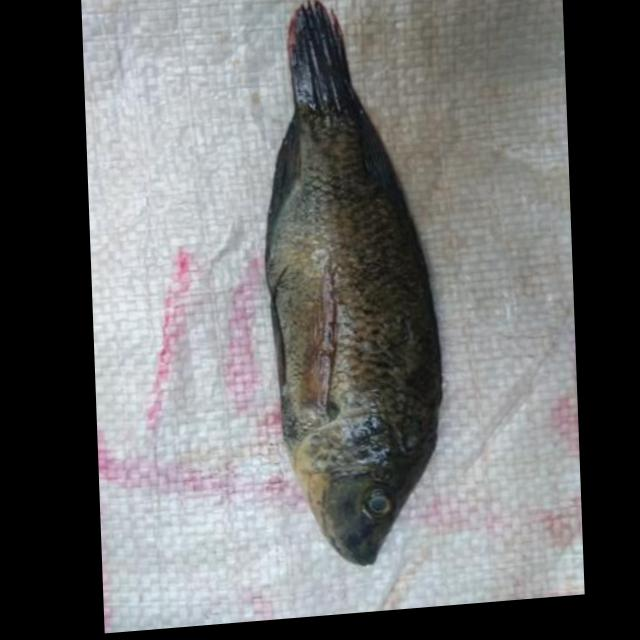Tilapia: (256, 0, 449, 575)
